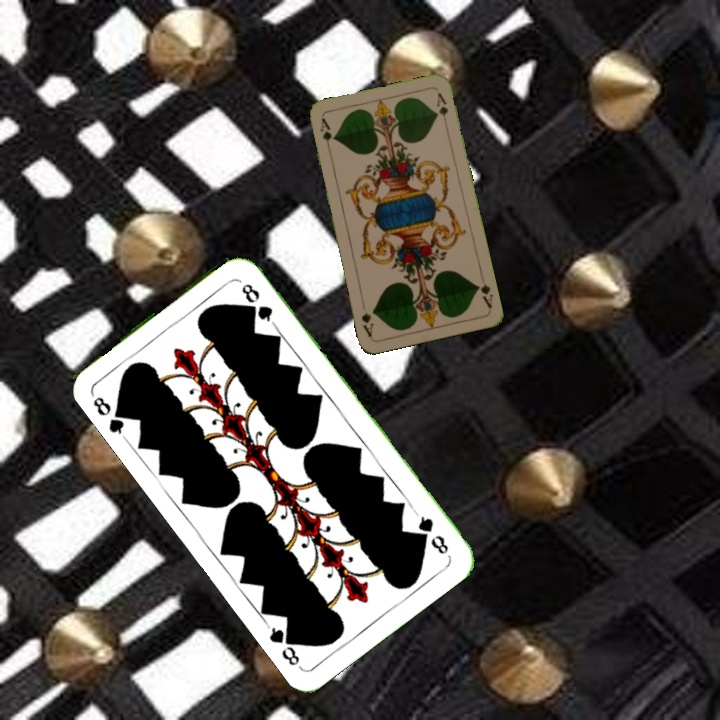G8: (89, 392, 132, 440), (411, 508, 451, 558)
GA: (316, 114, 334, 154), (472, 280, 495, 311)
